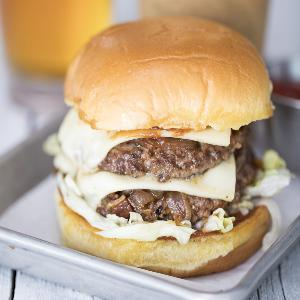cheeseburger: (52, 12, 283, 285)
